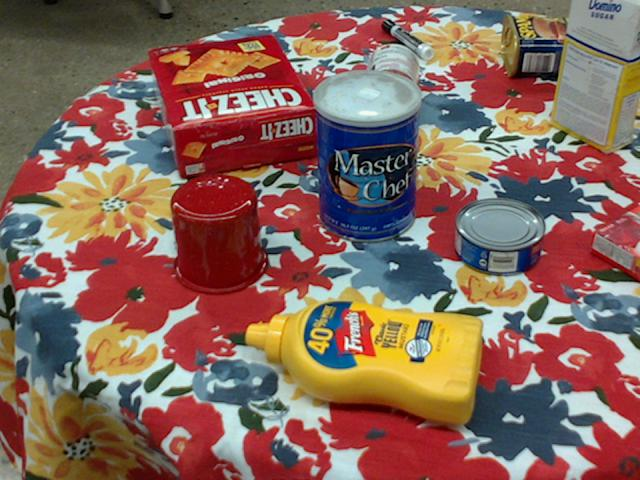cracker_box: (150, 34, 319, 175)
gelatin_box: (590, 205, 639, 281)
large_marker: (383, 17, 434, 58)
master_chef_can: (312, 69, 420, 242)
mug: (169, 173, 269, 294)
mustard_bottle: (246, 298, 485, 422)
potted_meat_can: (501, 11, 578, 75)
sugar_box: (549, 0, 639, 154)
tomato_soup_can: (361, 41, 418, 128)
tuna_fish_can: (455, 198, 546, 275)
